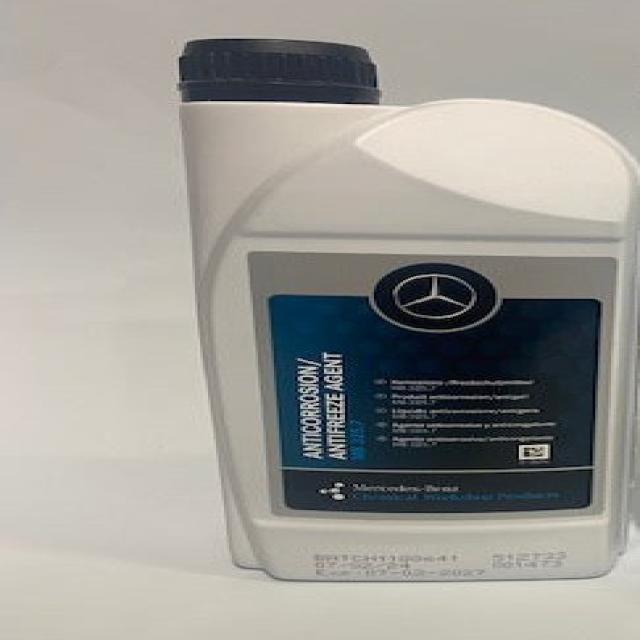coolant: (171, 29, 640, 584)
